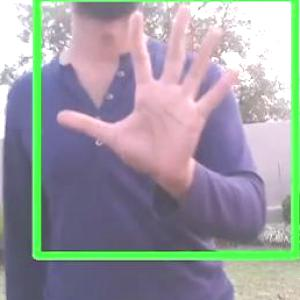follow_hand: (51, 0, 249, 186)
